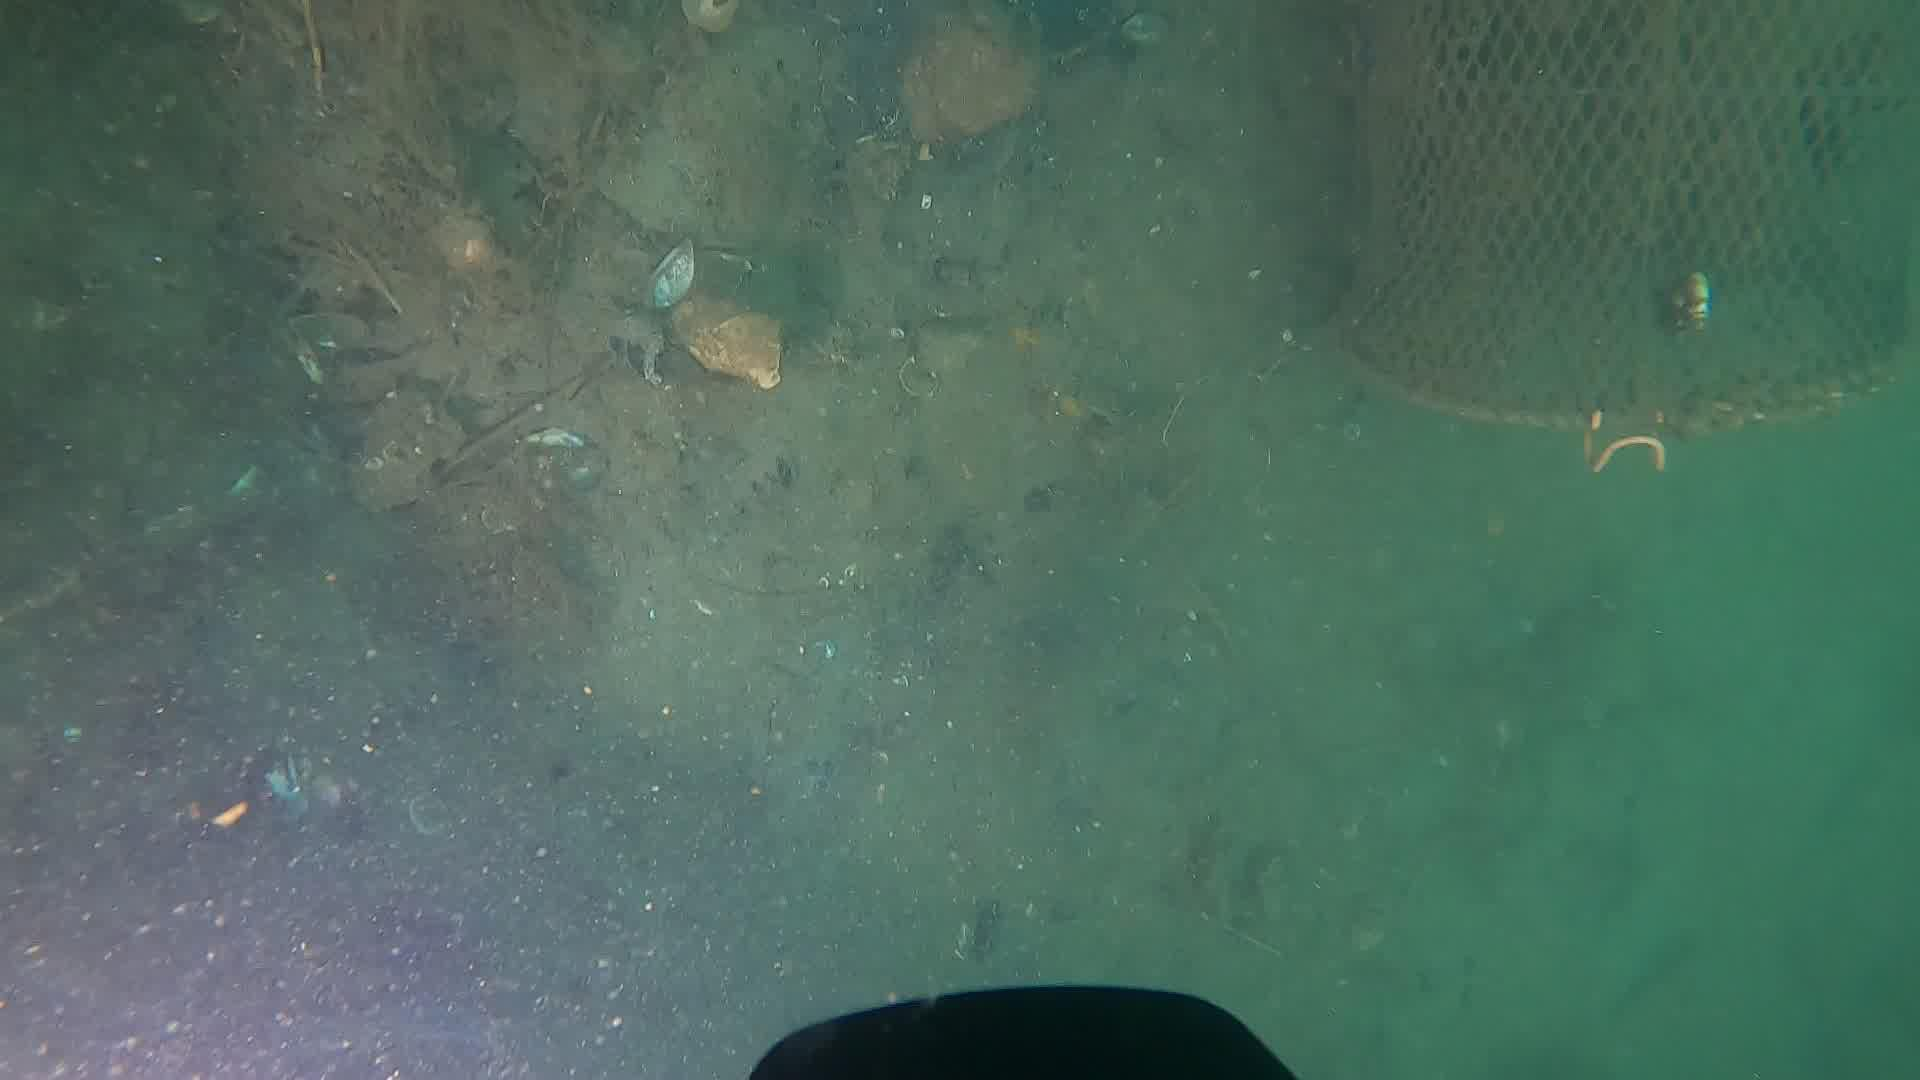spring fish trap: (1325, 0, 1920, 429)
